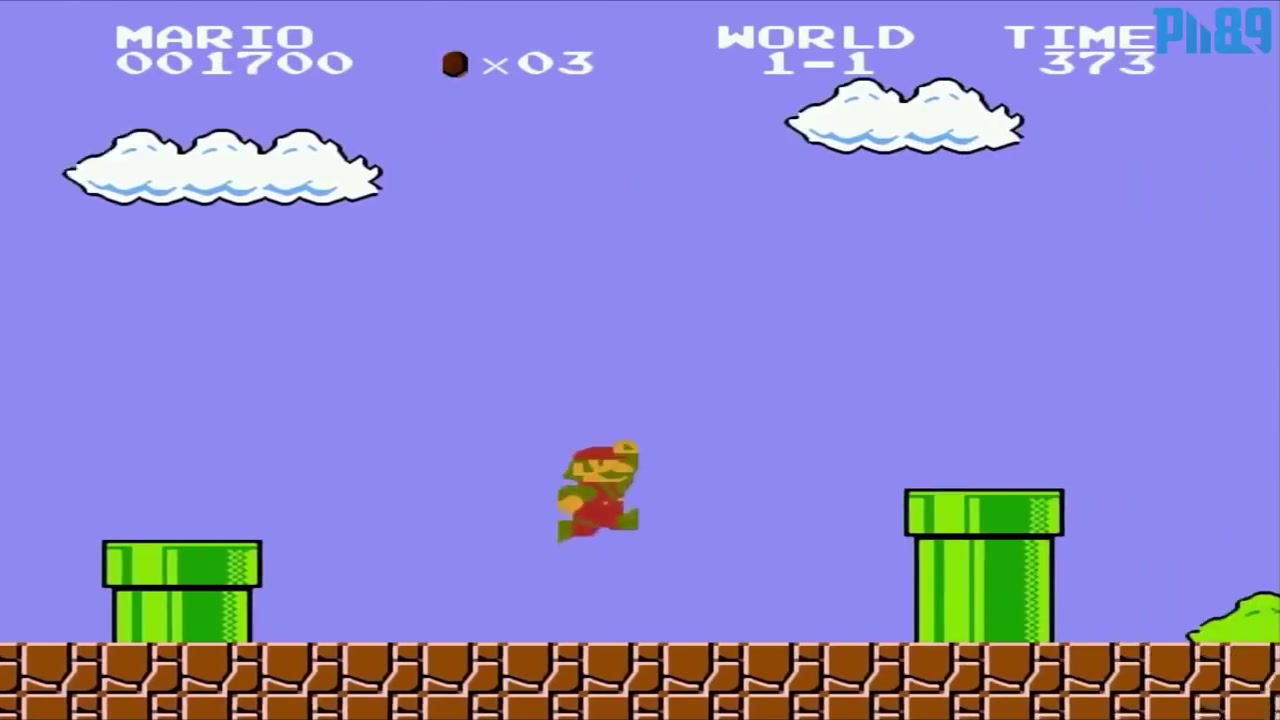mario: (540, 433, 650, 550)
